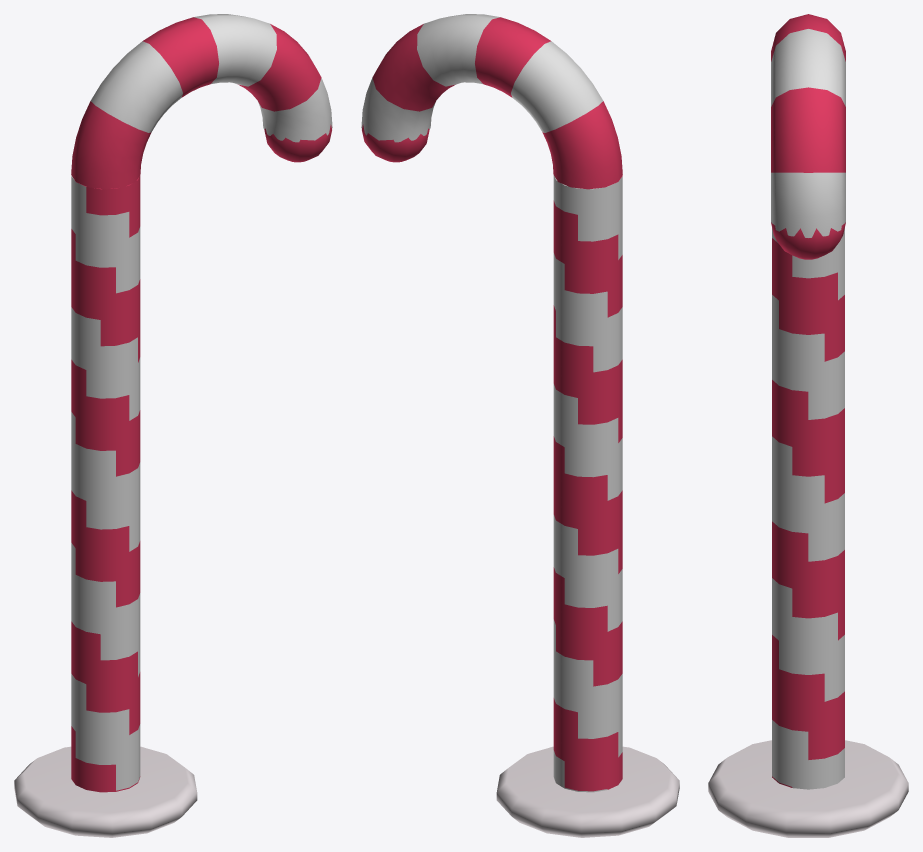
The model's file is candy-deco2.glb.
3 renders of one model, left to right at view 1: azimuth 30°, elevation 25°; view 2: azimuth 150°, elevation 25°; view 3: azimuth 270°, elevation 25°, orthographic. The views are drawn at different scales.
Parts seen in each view (by area): view 1: candy-deco2; view 2: candy-deco2; view 3: candy-deco2.
Boxes of the visible parts, x1,y1,x2,y2 form: candy-deco2: [14, 14, 332, 837]; candy-deco2: [361, 14, 679, 837]; candy-deco2: [708, 14, 908, 837].
Size of the model in its own units: 1.5 by 3.63 by 0.8.
